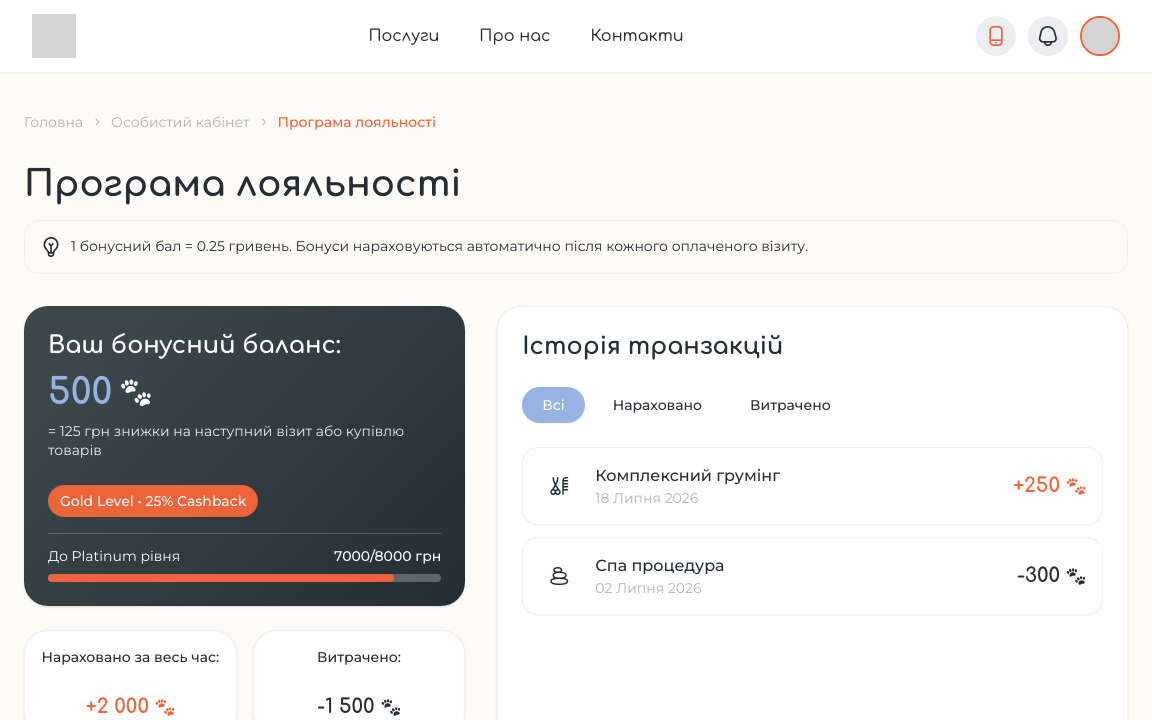
Test case: LoyaltyProgramPage › filters transactions when switching between tabs
Expected: the text "Комплексний грумінг" is shown, [595,464,780,488]
Expected: the text "Спа процедура" is shown, [595,554,724,578]
Click the tab "Нараховано".
click(657, 405)  # box [593,387,722,423]
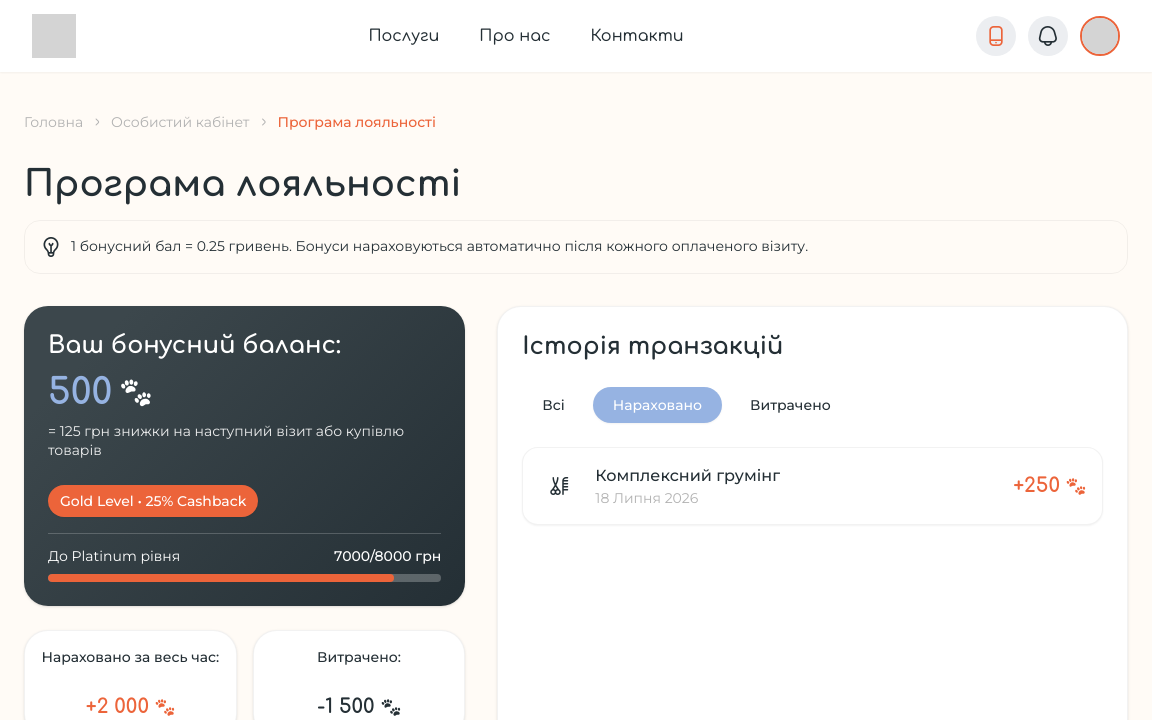
Expected: the text "Комплексний грумінг" is shown, [595,464,780,488]
Expected: the text "Спа процедура" is gone
Click the tab "Витрачено".
click(790, 405)  # box [730,387,851,423]
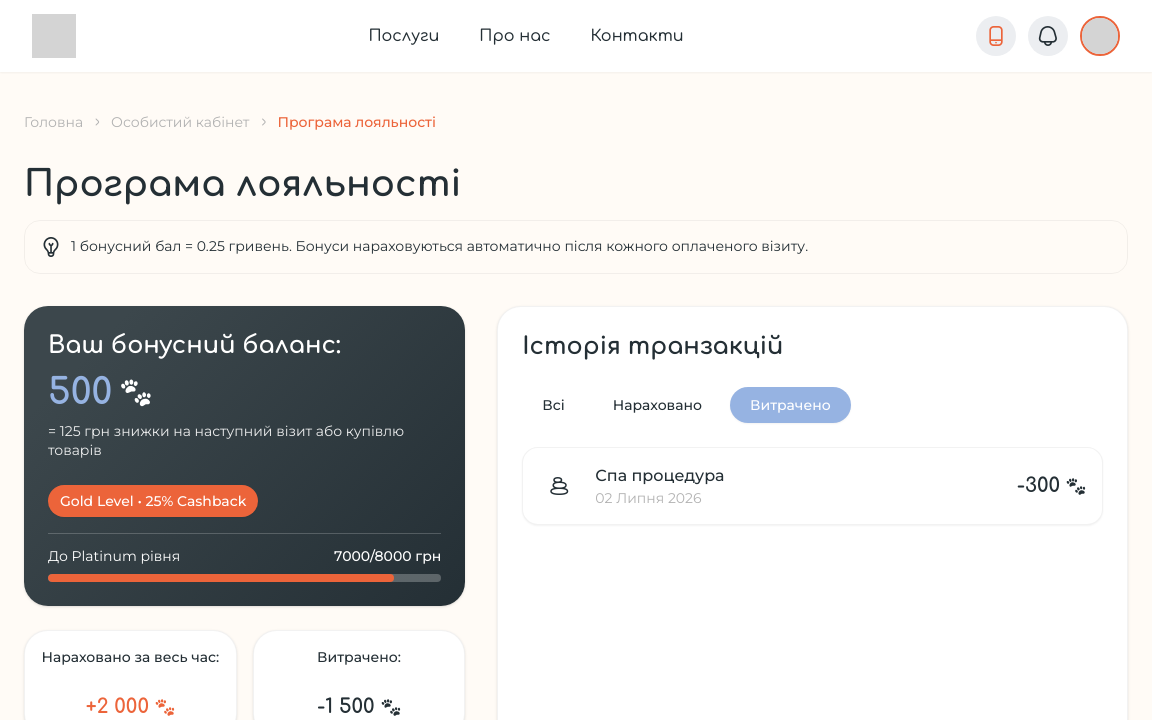
Expected: the text "Комплексний грумінг" is gone
Expected: the text "Спа процедура" is shown, [595,464,724,488]
Click the tab "Всі".
click(554, 405)  # box [522,387,585,423]
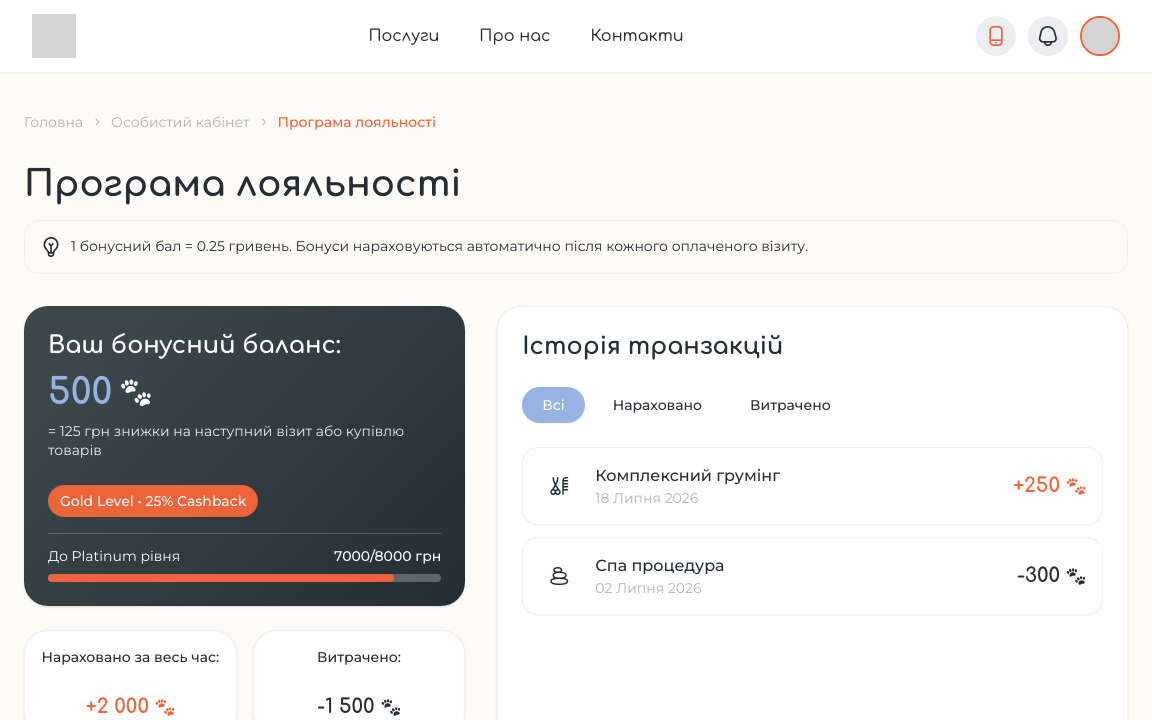
Expected: the text "Спа процедура" is shown, [595,554,724,578]
Expected: the text "Комплексний грумінг" is shown, [595,464,780,488]
